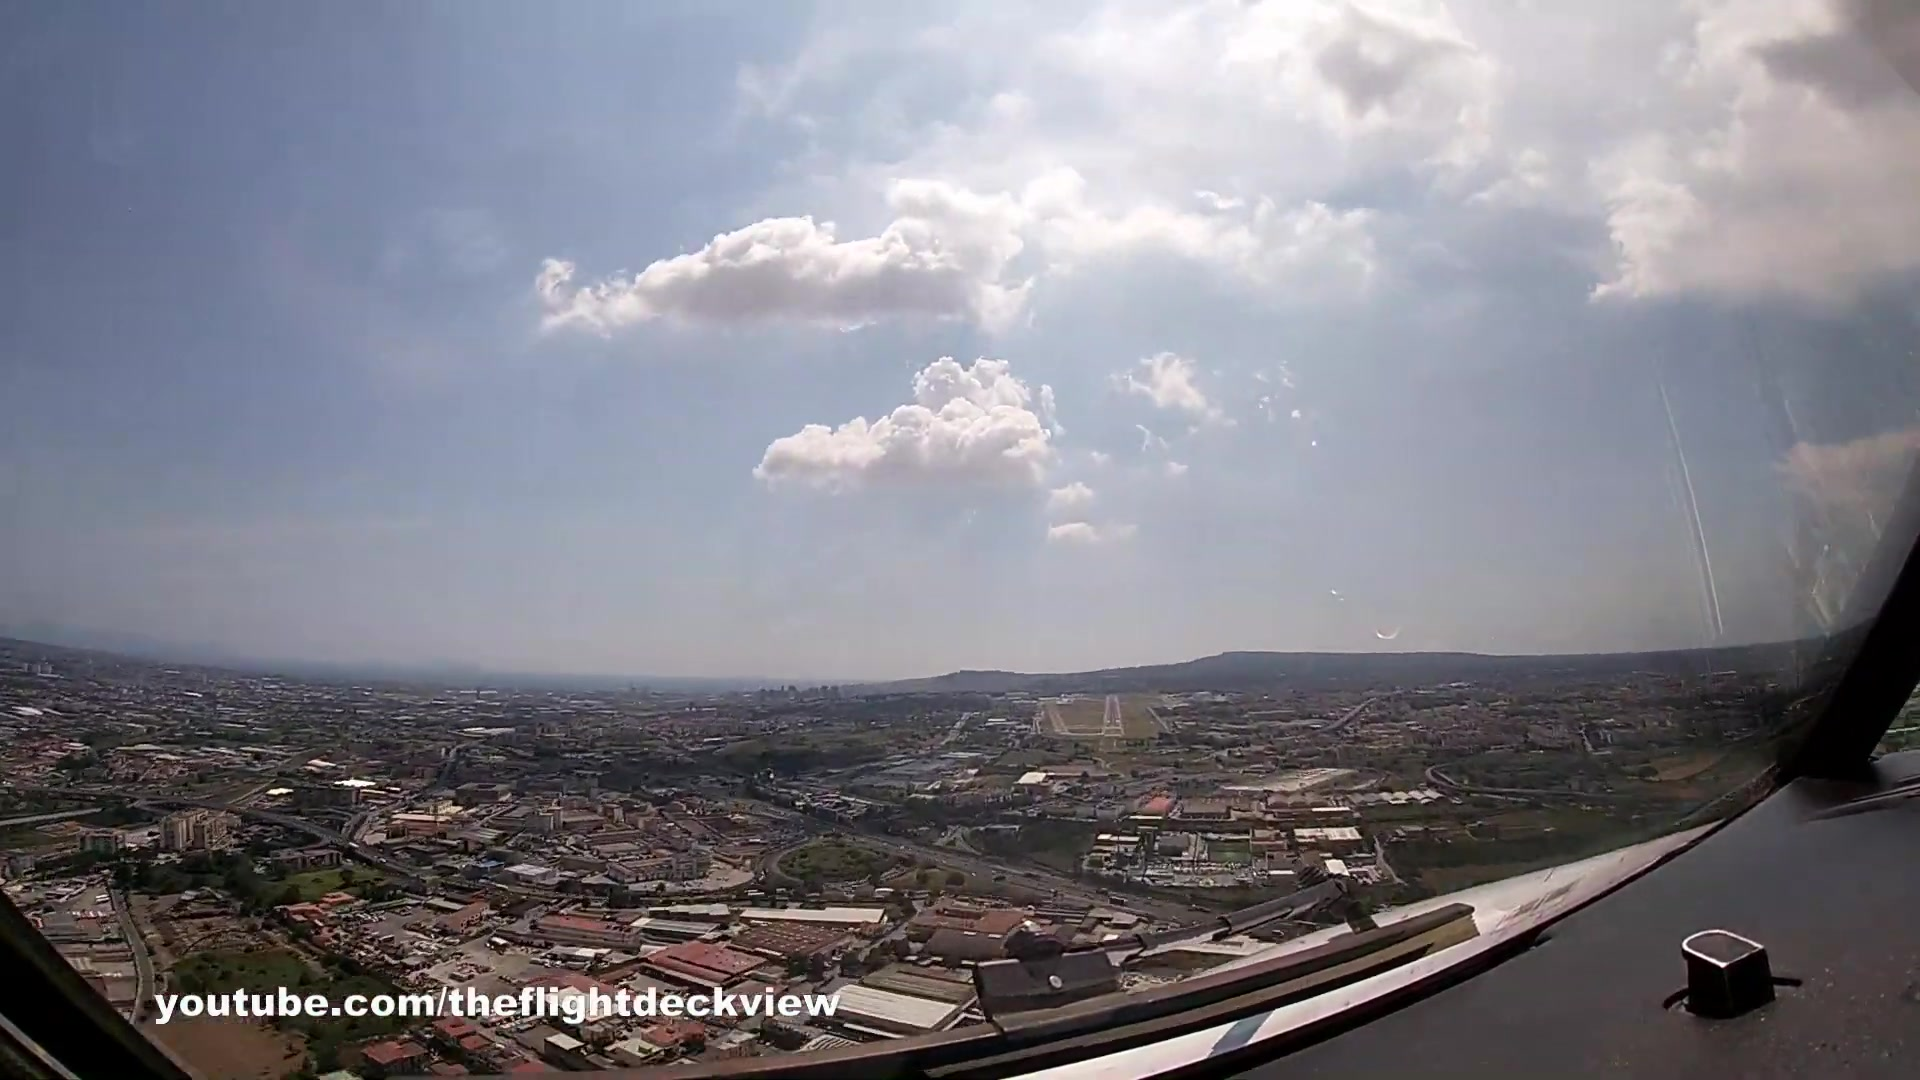runway: (1098, 694, 1125, 738)
